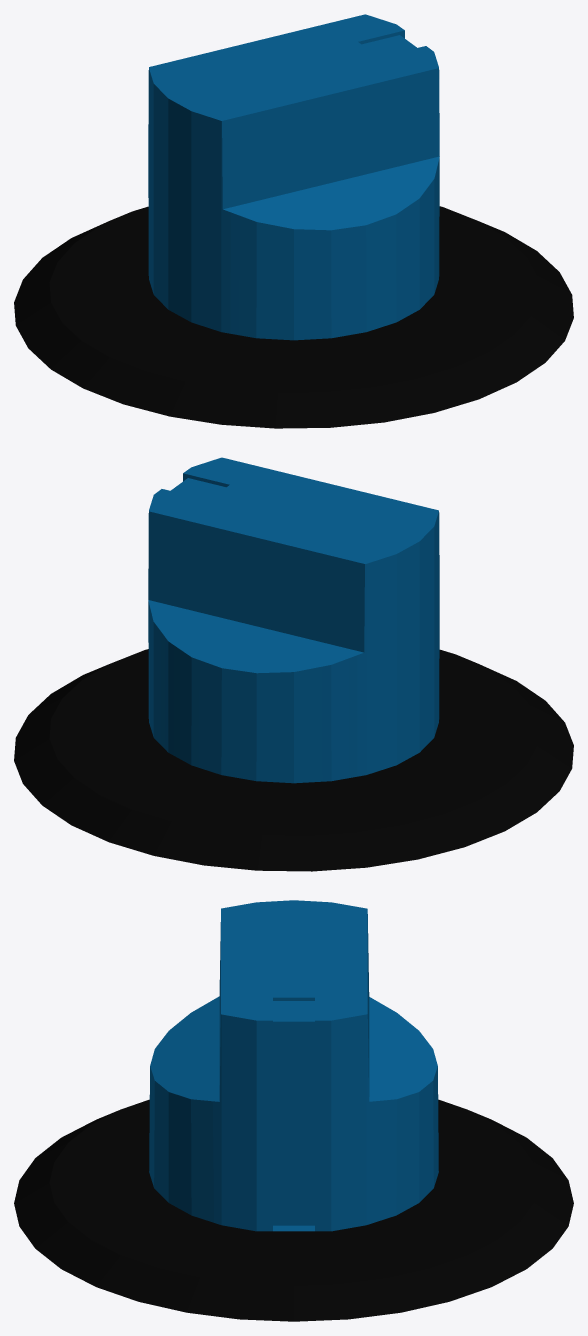
Rendered from props.fbx_reg8.fbx.
3 renders of one model, top to bottom at view 1: azimuth 30°, elevation 25°; view 2: azimuth 150°, elevation 25°; view 3: azimuth 270°, elevation 25°, orthographic.
Visible parts, largest first — view 1: Cylinder.017, Circle.033; view 2: Cylinder.017, Circle.033; view 3: Cylinder.017, Circle.033.
Part boxes in pixels (left/top/right/bottom): Cylinder.017: left=148, top=14, right=439, bottom=340; Circle.033: left=14, top=206, right=573, bottom=428; Cylinder.017: left=148, top=457, right=439, bottom=783; Circle.033: left=14, top=649, right=573, bottom=871; Cylinder.017: left=149, top=900, right=438, bottom=1231; Circle.033: left=14, top=1099, right=573, bottom=1321.
Size of the model in its own units: 0.6411 by 0.3056 by 0.6411.
